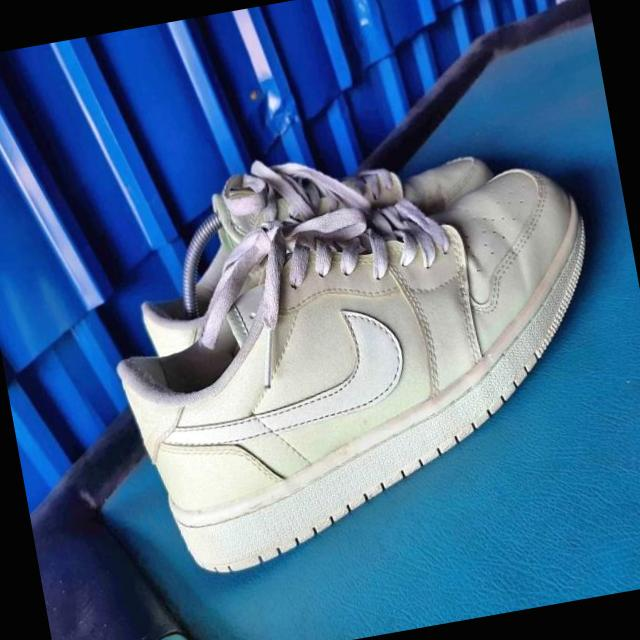nike_fake_jordan: (90, 151, 640, 591)
